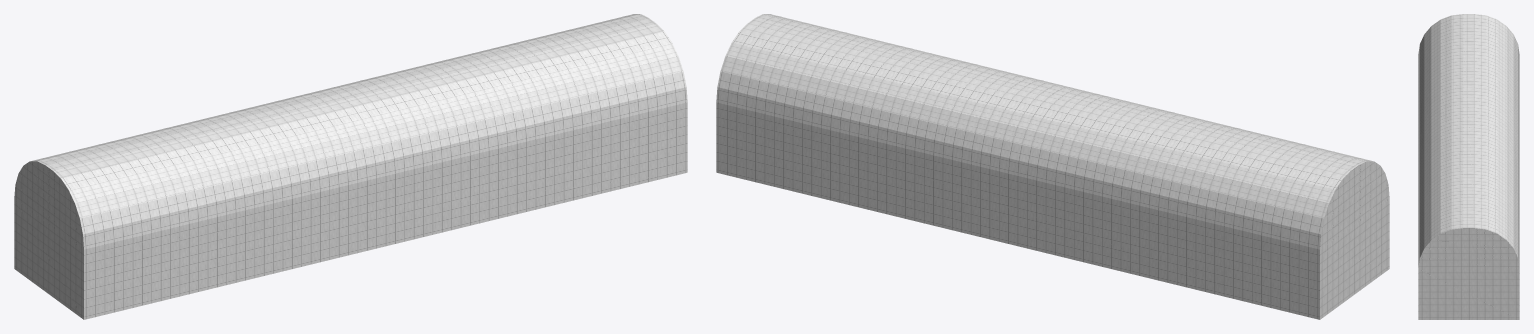
The model's file is PoolRndBorder.fbx.
3 views of the same model, side by side, from view 1: azimuth 30°, elevation 25°; view 2: azimuth 150°, elevation 25°; view 3: azimuth 270°, elevation 25° (orthographic). The views are drawn at different scales.
Visible parts, largest first — view 1: PoolRndBorder; view 2: PoolRndBorder; view 3: PoolRndBorder.
Part boxes in pixels (<box>): PoolRndBorder: <box>14,14,687,319</box>; PoolRndBorder: <box>716,14,1389,319</box>; PoolRndBorder: <box>1418,14,1519,319</box>.
Size of what is drawn, in the model's own units: 10 by 2 by 2.
